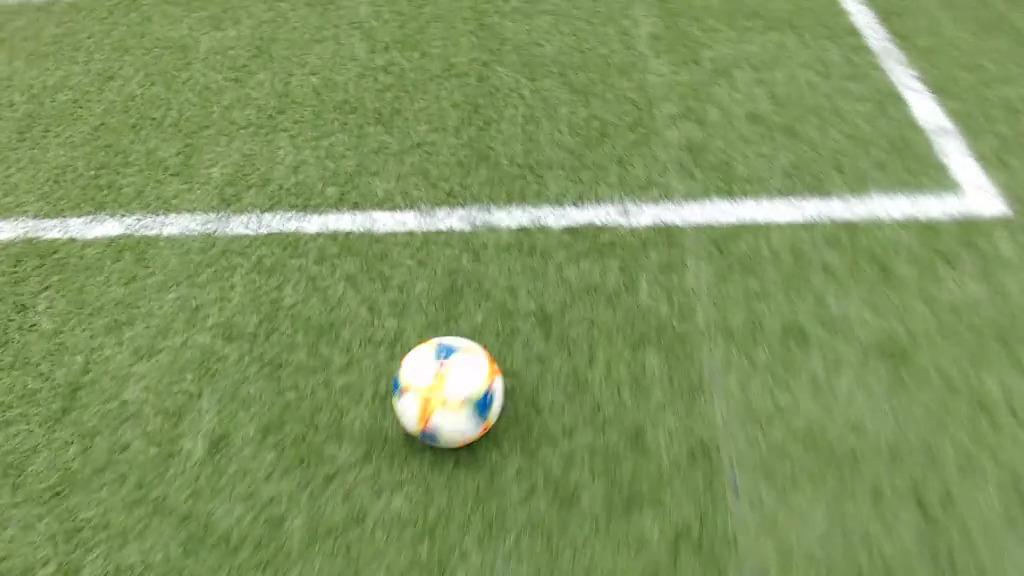ball: (394, 336, 503, 449)
